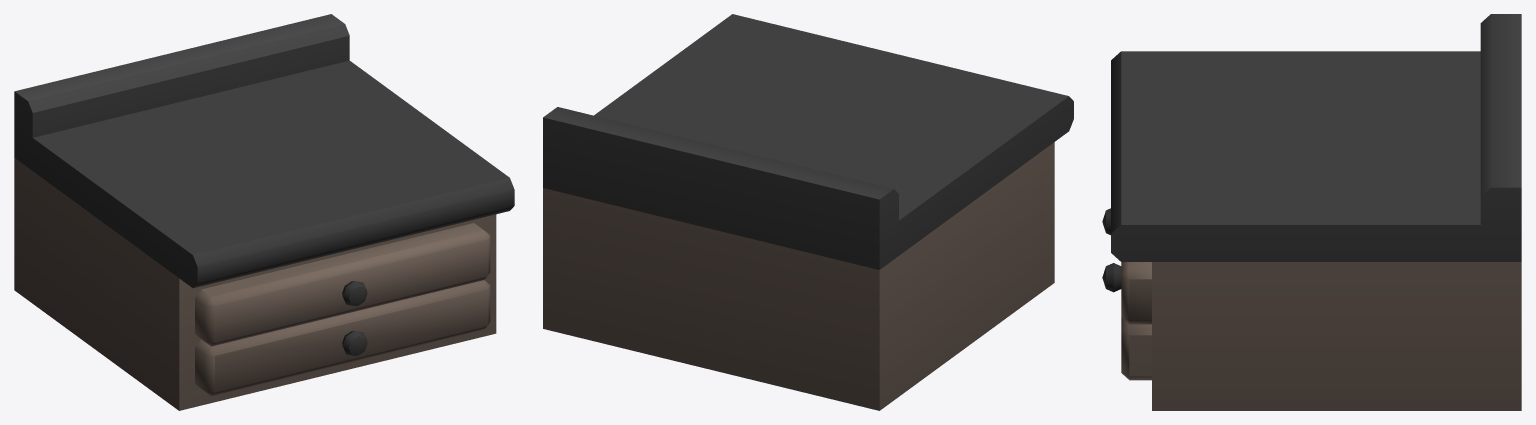
Rendered from kitchencounter_straight_A_backsplash_styleB.obj.
3 renders of one model, left to right at view 1: azimuth 30°, elevation 25°; view 2: azimuth 150°, elevation 25°; view 3: azimuth 270°, elevation 25°, orthographic. The views are drawn at different scales.
Parts seen in each view (by area): view 1: kitchencounter_straight_A_backsplash_styleB_Cube.023; view 2: kitchencounter_straight_A_backsplash_styleB_Cube.023; view 3: kitchencounter_straight_A_backsplash_styleB_Cube.023.
Boxes of the visible parts, box(x1,y1,x2,y2) form: kitchencounter_straight_A_backsplash_styleB_Cube.023: box(14, 14, 514, 410); kitchencounter_straight_A_backsplash_styleB_Cube.023: box(543, 14, 1073, 410); kitchencounter_straight_A_backsplash_styleB_Cube.023: box(1102, 14, 1521, 410).
Bounding box in the file's own units: 2 × 1.2 × 2.04.
1 material, 1 textured.
